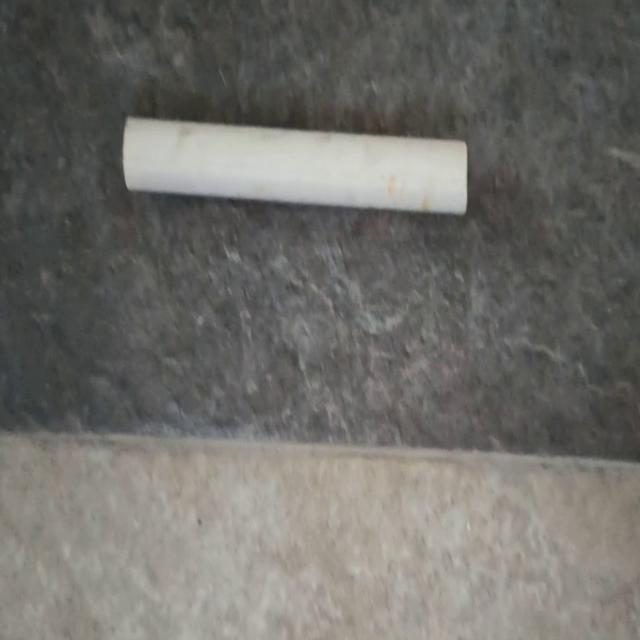Cube: (121, 111, 469, 217)
